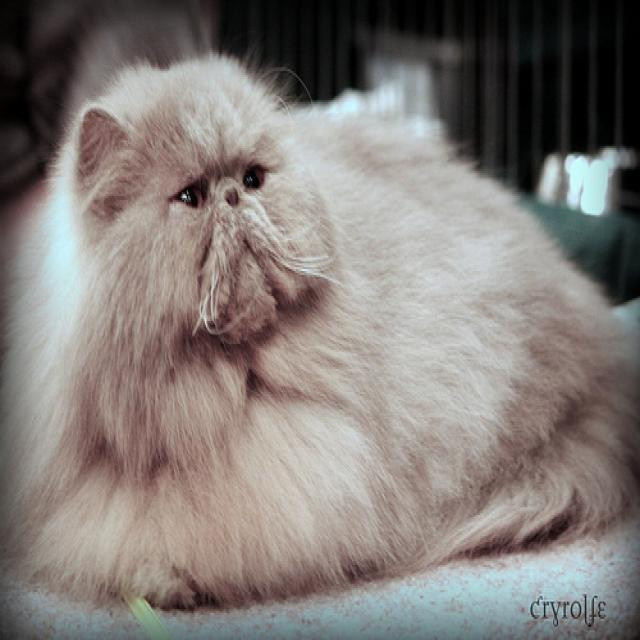Persian: (74, 49, 338, 346)
